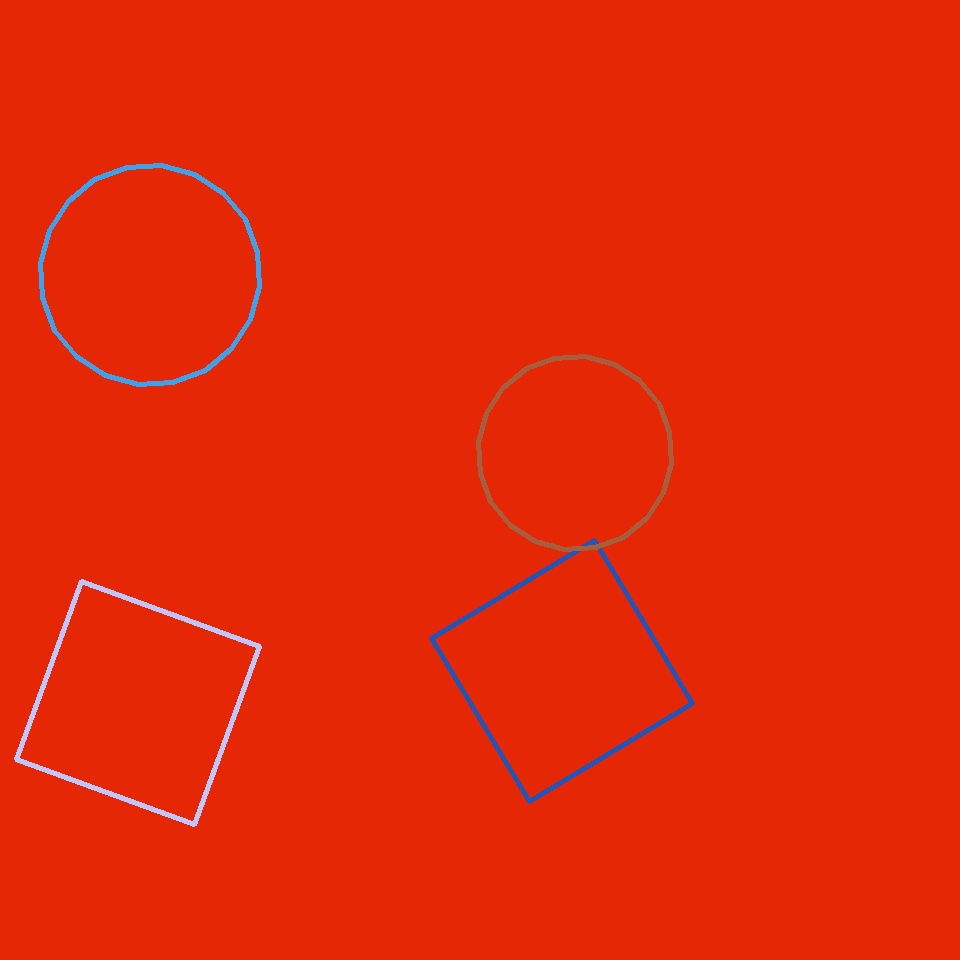square: (432, 540, 693, 802), (16, 582, 259, 824)
triangle: (40, 165, 260, 384), (479, 356, 672, 550)
